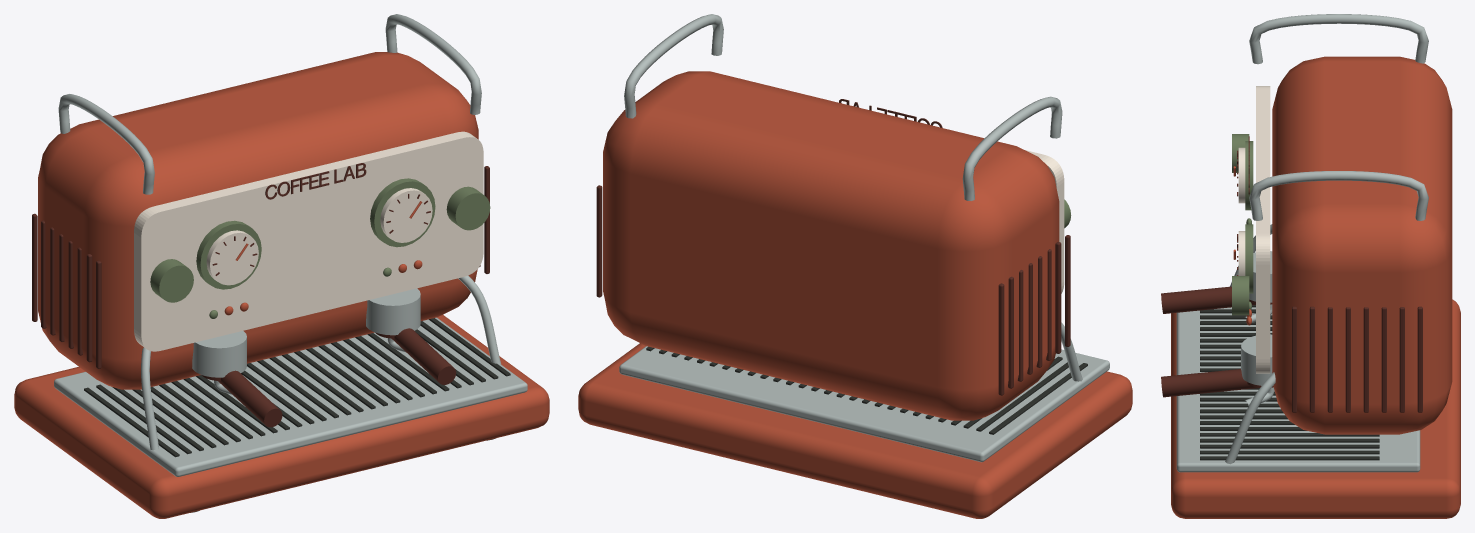
The model's file is espresso-machine.glb.
The picture shows the model from 3 angles, left to right: view 1: azimuth 30°, elevation 25°; view 2: azimuth 150°, elevation 25°; view 3: azimuth 270°, elevation 25°; orthographic projection. The views are drawn at different scales.
Visible parts, largest first — view 1: surface-#B5543A,0,0.7, surface-#F0E6D8,0,0.7, surface-#AFB9B7,0.85,0.28, surface-#30332F,0,0.7, surface-#5A2E25,0,0.7, surface-#6F7F5F,0,0.7, surface-#AFB9B7,0.8,0.3, surface-#AFB9B7,0.8,0.26, surface-#AFB9B7,0.9,0.24; view 2: surface-#B5543A,0,0.7, surface-#AFB9B7,0.85,0.28, surface-#5A2E25,0,0.7, surface-#AFB9B7,0.8,0.26, surface-#30332F,0,0.7, surface-#F0E6D8,0,0.7; view 3: surface-#B5543A,0,0.7, surface-#AFB9B7,0.85,0.28, surface-#30332F,0,0.7, surface-#5A2E25,0,0.7, surface-#AFB9B7,0.8,0.26, surface-#F0E6D8,0,0.7, surface-#6F7F5F,0,0.7, surface-#AFB9B7,0.8,0.3, surface-#AFB9B7,0.9,0.24.
Part boxes in pixels (x1=…): surface-#B5543A,0,0.7: x1=14, y1=52, x2=549, y2=518; surface-#F0E6D8,0,0.7: x1=134, y1=131, x2=483, y2=351; surface-#AFB9B7,0.85,0.28: x1=54, y1=317, x2=527, y2=476; surface-#30332F,0,0.7: x1=84, y1=318, x2=510, y2=512; surface-#5A2E25,0,0.7: x1=32, y1=163, x2=489, y2=427; surface-#6F7F5F,0,0.7: x1=150, y1=178, x2=490, y2=318; surface-#AFB9B7,0.8,0.3: x1=192, y1=288, x2=420, y2=377; surface-#AFB9B7,0.8,0.26: x1=58, y1=14, x2=481, y2=194; surface-#AFB9B7,0.9,0.24: x1=141, y1=275, x2=501, y2=450; surface-#B5543A,0,0.7: x1=578, y1=71, x2=1132, y2=518; surface-#AFB9B7,0.85,0.28: x1=619, y1=346, x2=1109, y2=462; surface-#5A2E25,0,0.7: x1=596, y1=99, x2=1070, y2=395; surface-#AFB9B7,0.8,0.26: x1=624, y1=14, x2=1062, y2=200; surface-#30332F,0,0.7: x1=646, y1=346, x2=1087, y2=434; surface-#F0E6D8,0,0.7: x1=1025, y1=150, x2=1064, y2=293; surface-#B5543A,0,0.7: x1=1171, y1=56, x2=1460, y2=518; surface-#AFB9B7,0.85,0.28: x1=1176, y1=307, x2=1420, y2=472; surface-#30332F,0,0.7: x1=1200, y1=305, x2=1379, y2=460; surface-#5A2E25,0,0.7: x1=1161, y1=136, x2=1422, y2=412; surface-#AFB9B7,0.8,0.26: x1=1249, y1=14, x2=1428, y2=220; surface-#F0E6D8,0,0.7: x1=1238, y1=86, x2=1270, y2=373; surface-#6F7F5F,0,0.7: x1=1232, y1=134, x2=1253, y2=315; surface-#AFB9B7,0.8,0.3: x1=1241, y1=251, x2=1272, y2=385; surface-#AFB9B7,0.9,0.24: x1=1225, y1=224, x2=1275, y2=464.
Bounding box in the file's own units: 0.78 × 0.6512 × 0.5169.
